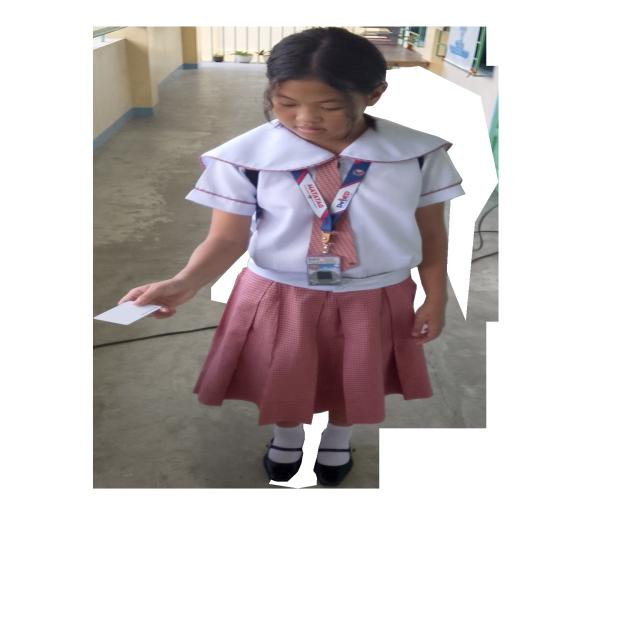id lace: (291, 160, 370, 234)
pologirl: (188, 123, 331, 282), (339, 119, 464, 290), (331, 212, 357, 270), (313, 159, 341, 207), (307, 218, 322, 255)
shoes: (313, 454, 353, 486), (263, 451, 302, 482), (267, 439, 302, 452), (318, 447, 350, 457)
skirt: (194, 268, 432, 425)
